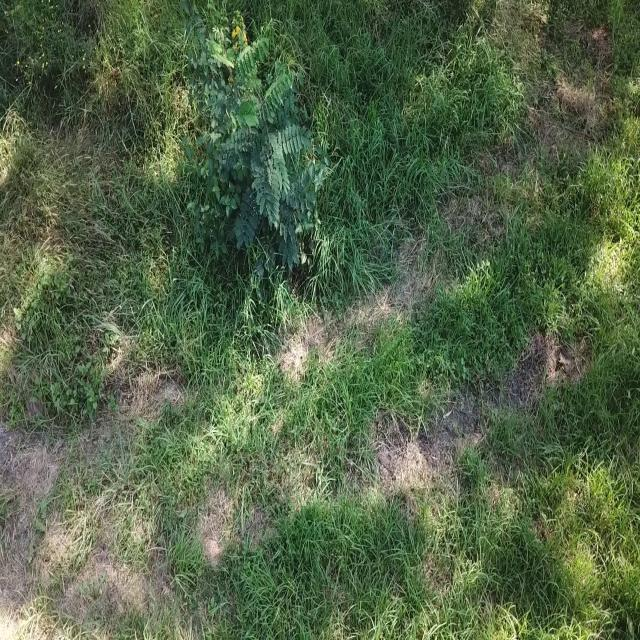Mysore-Thorn-Weed: (197, 1, 316, 291)
